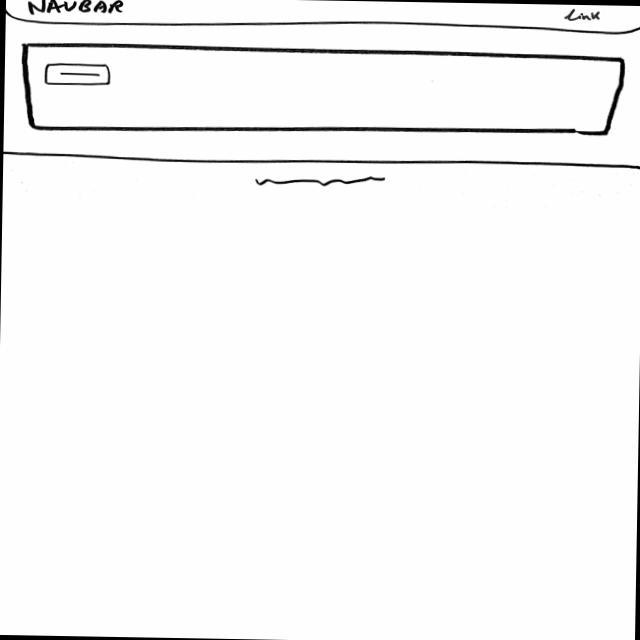container: (19, 42, 627, 142), (6, 1, 640, 35)
icon-button: (42, 62, 116, 89)
label: (26, 1, 126, 16), (565, 10, 605, 24)
text: (253, 174, 390, 190)
